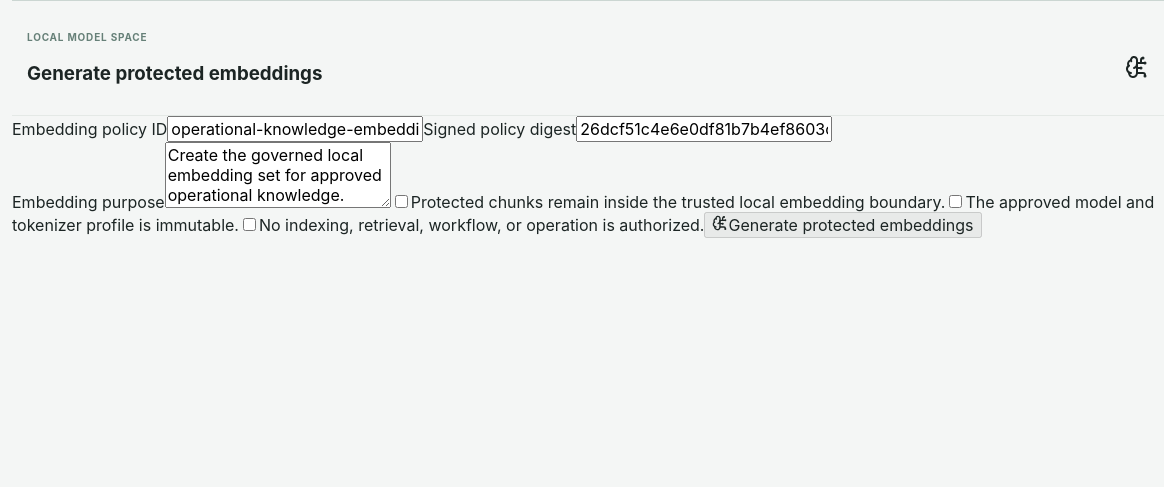
EmbeddingGenerationPanel › creates only a minimized protected embedding-set receipt
This screenshot has width=1164, height=487.
Expected: the button "Generate protected embeddings" is disabled, [704,212,982,238]
Step 1. Click the checkbox labelled "Protected chunks remain inside the trusted local embedding boundary." → (401, 202), box [395,195,408,208]
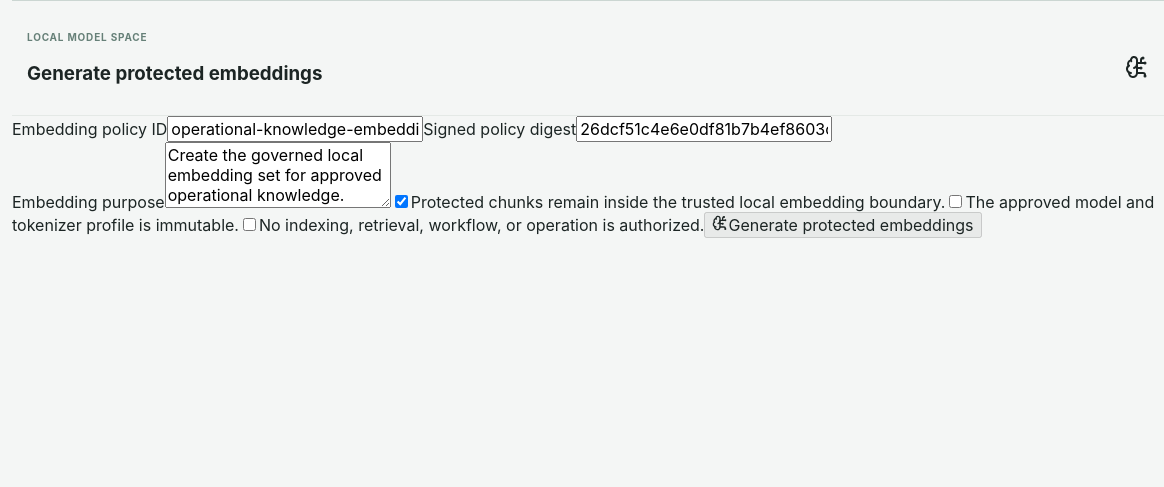
Step 2. Click the checkbox labelled "The approved model and tokenizer profile is immutable." → (956, 202), box [949,195,962,208]
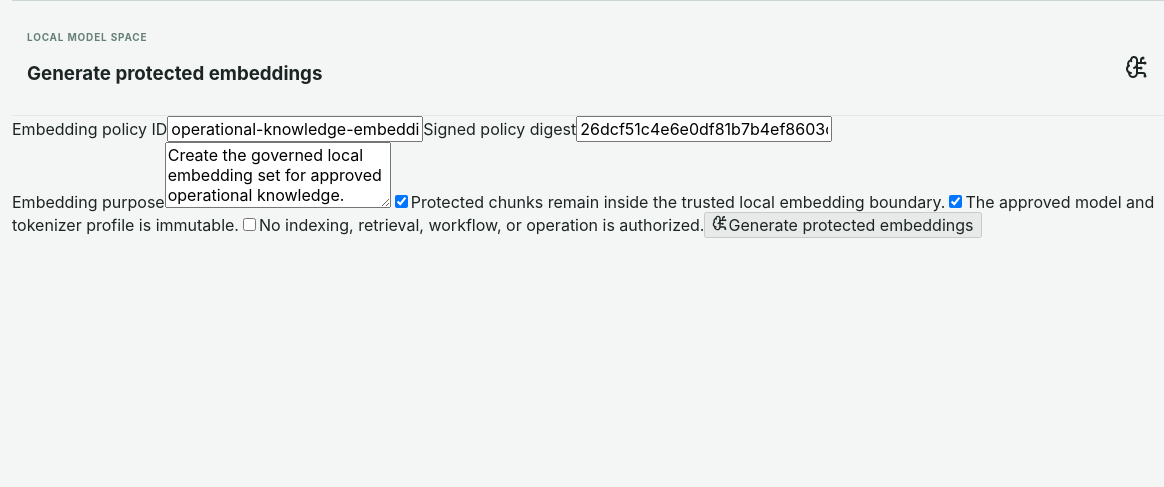
Step 3. Click the checkbox labelled "No indexing, retrieval, workflow, or operation is authorized." → (250, 225), box [243,218,256,231]
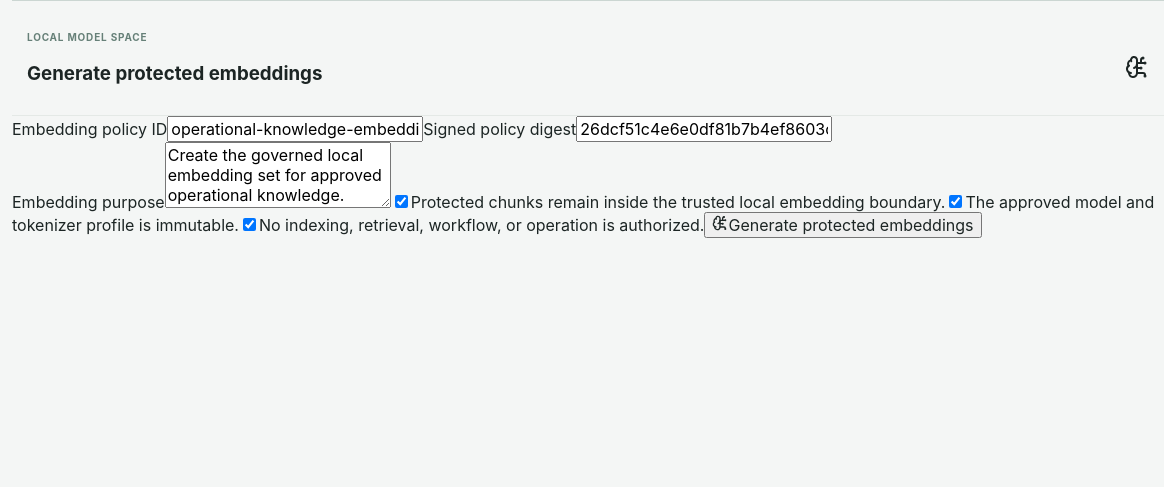
Result: the button "Generate protected embeddings" is enabled
Step 4. Click the button "Generate protected embeddings" → (843, 225), box [704,212,982,238]
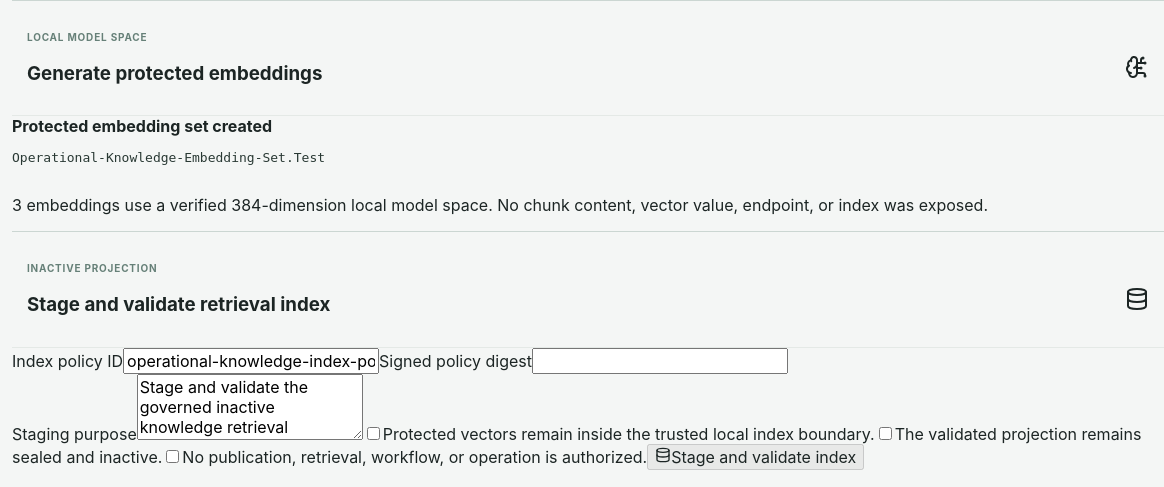
Result: the text "Protected embedding set created" is shown at [12,116,272,136]
Result: the text "3 embeddings use a verified 384-dimension" is shown at [12,195,988,215]
